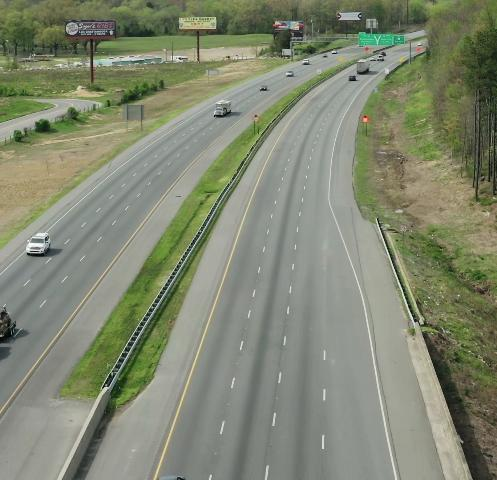car: (23, 231, 56, 259), (260, 84, 267, 91), (349, 75, 356, 82), (303, 59, 310, 66), (285, 71, 294, 76), (378, 55, 384, 61), (332, 49, 338, 54), (370, 56, 375, 61), (322, 54, 328, 58), (381, 52, 387, 56), (418, 42, 422, 46), (359, 45, 364, 47)
truck: (212, 97, 234, 119), (356, 60, 370, 74)
